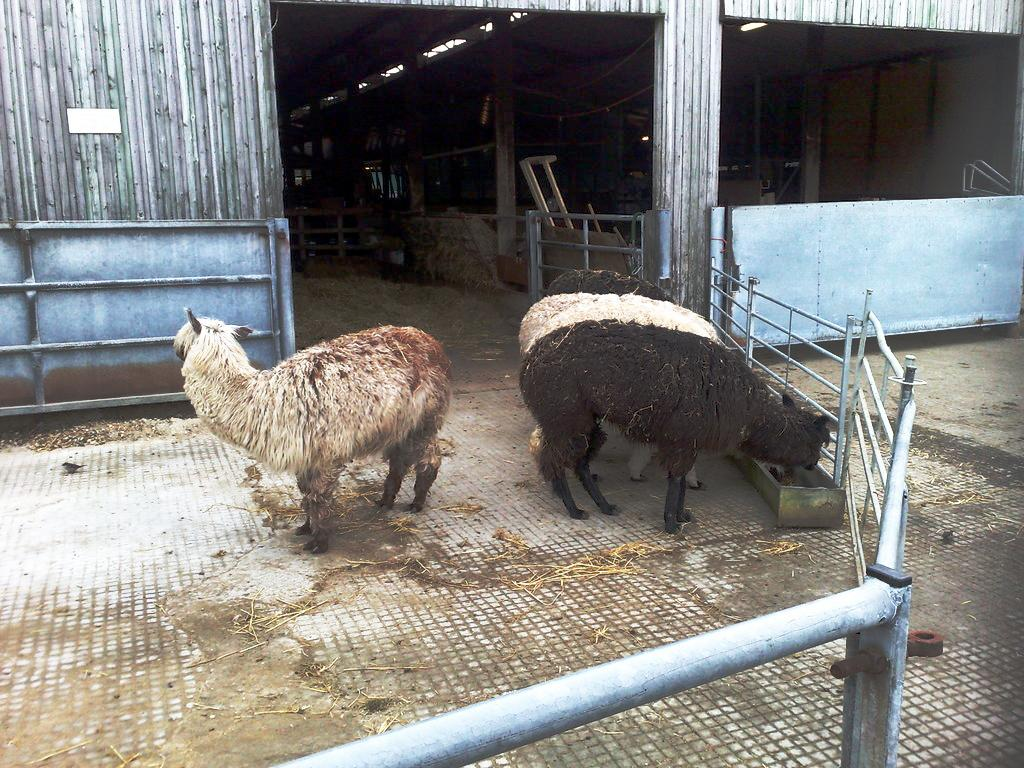Sheep: (169, 310, 452, 556), (515, 326, 830, 530), (514, 287, 733, 489)
